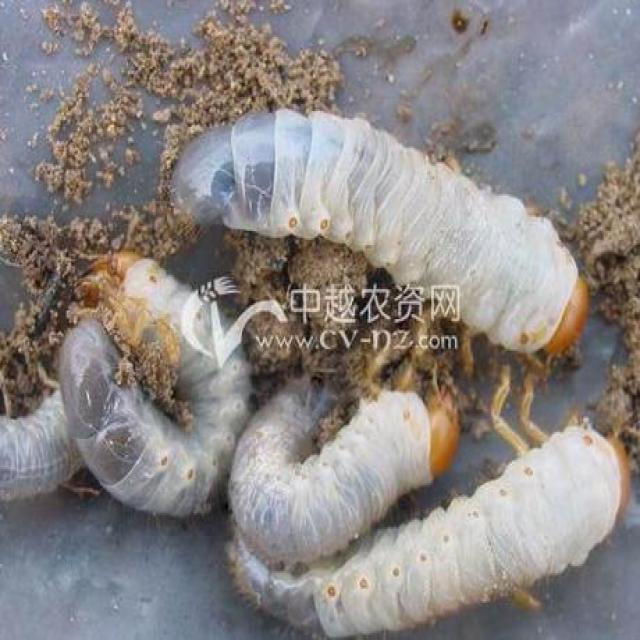Grub-Adult-: (163, 113, 612, 374), (46, 235, 248, 526), (220, 352, 475, 569)
